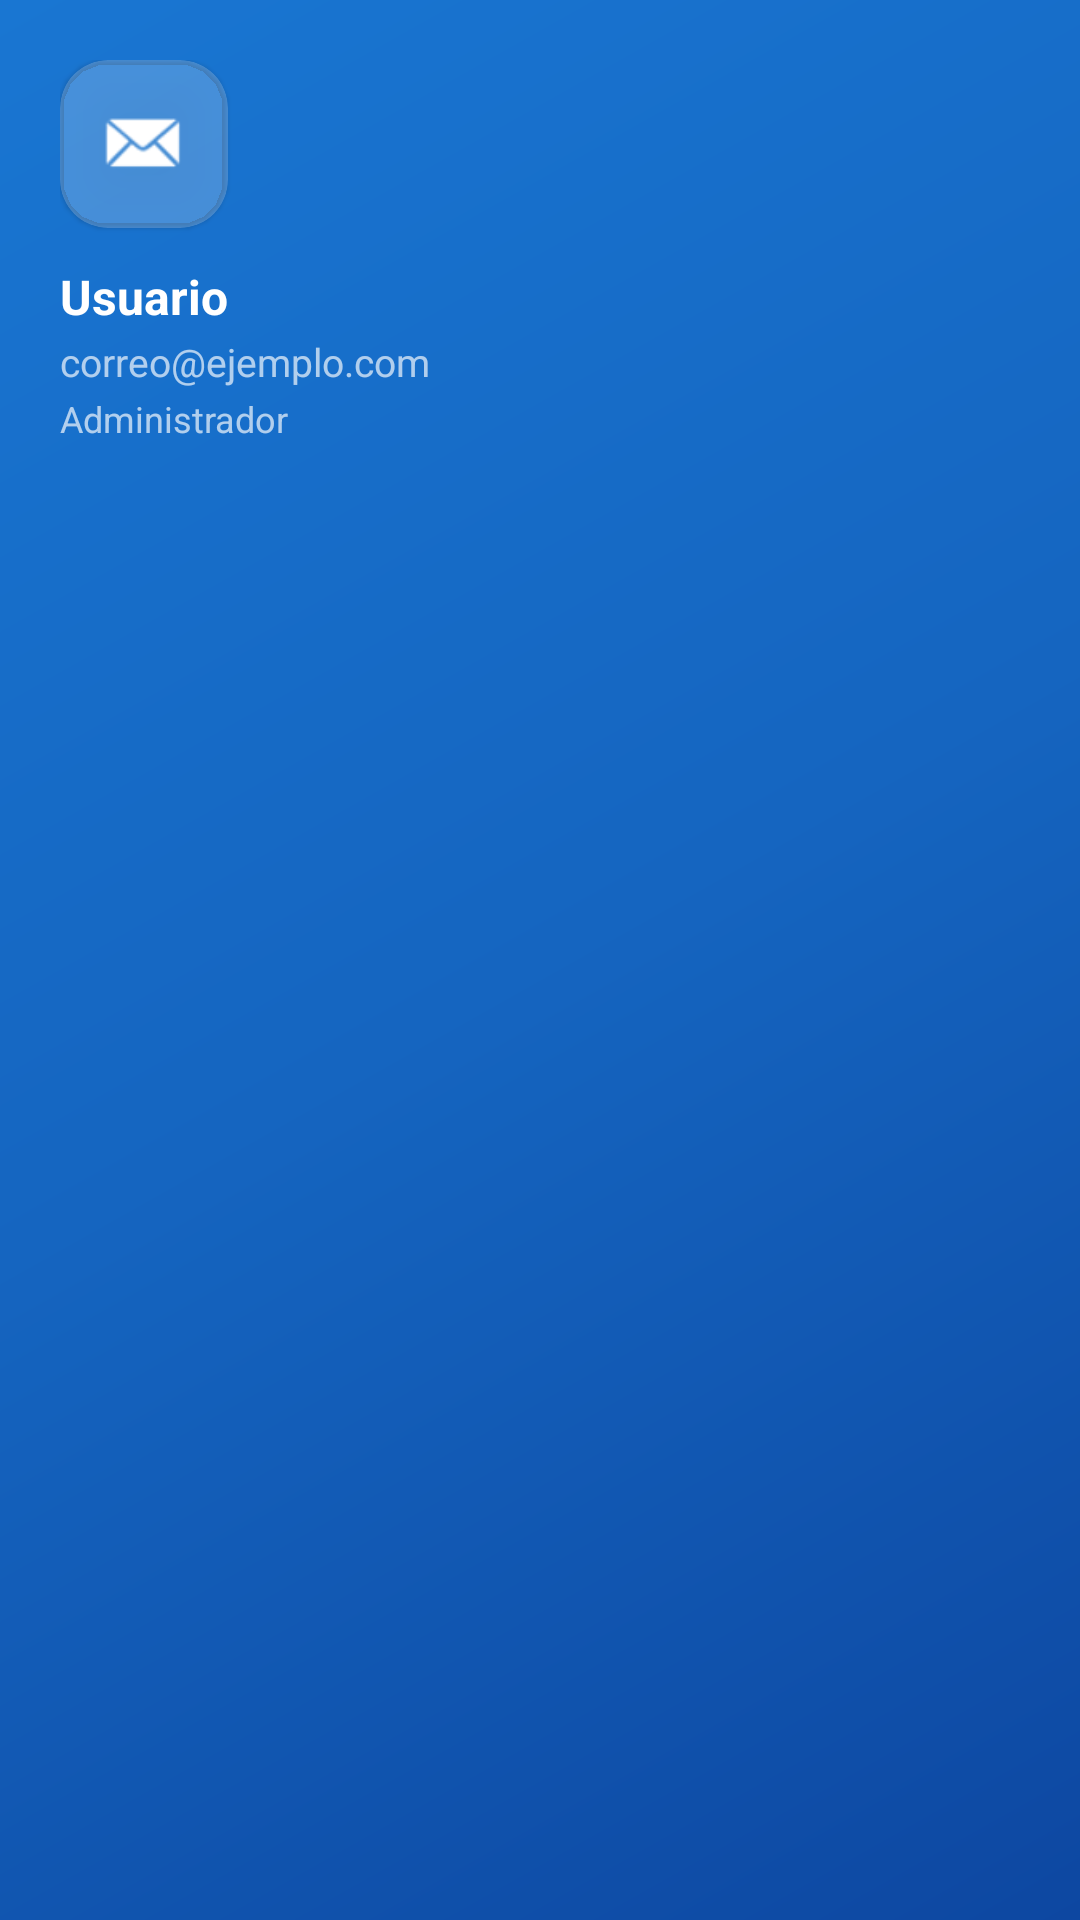

Screen size 1080 x 1920. Icon name, then its center in pixels as (x,y):
sym action email: (142,142)
